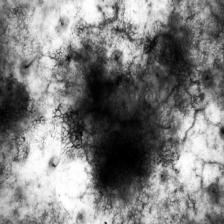Benign Marking or Mole: (62, 48, 163, 195)
